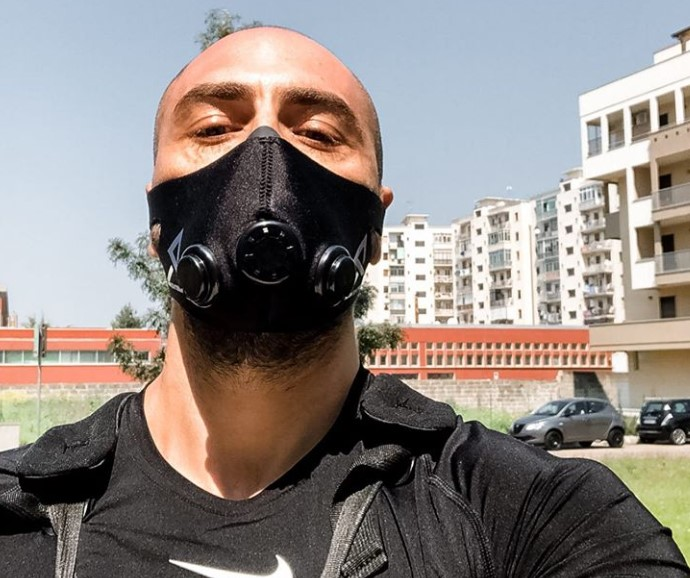face_with_mask: (142, 22, 395, 355)
